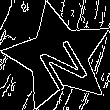N_NW: (28, 25, 89, 89)
